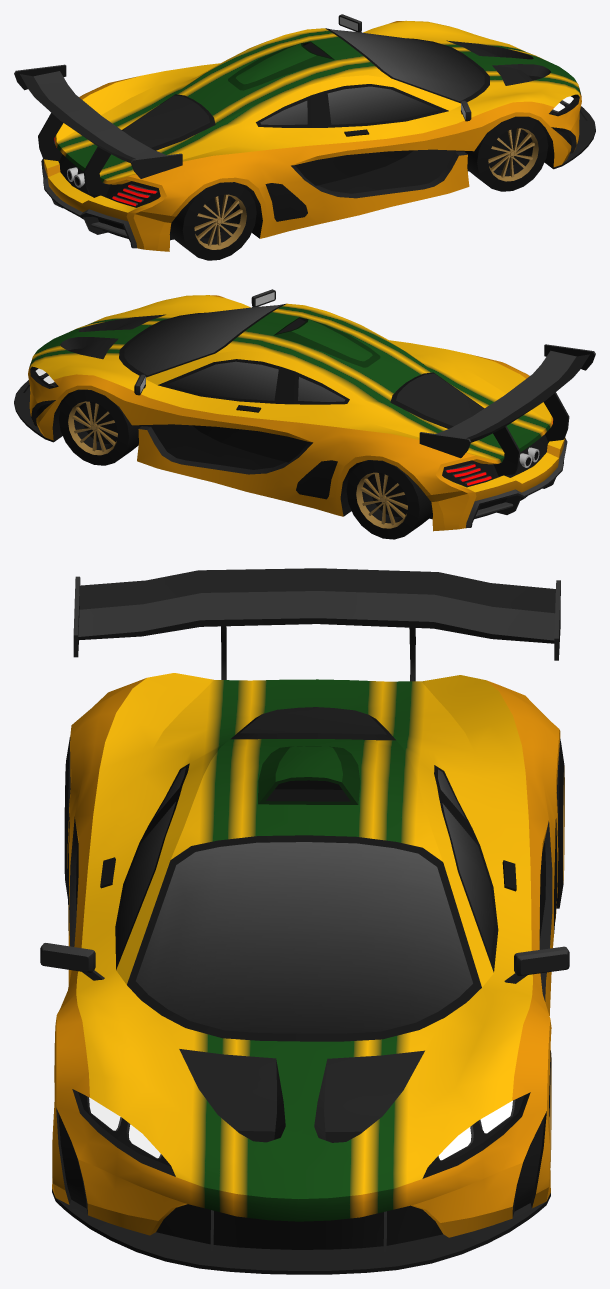
Rendered from Car_086.glb.
3 renders of one model, top to bottom at view 1: azimuth 30°, elevation 25°; view 2: azimuth 150°, elevation 25°; view 3: azimuth 270°, elevation 25°, orthographic. The views are drawn at different scales.
Visible parts, largest first — view 1: Car_086, wheel_3_Car_086_Wheel_2R, wheel_1_Car_086_Wheel_1R; view 2: Car_086, wheel_2_Car_086_Wheel_2L, wheel_0_Car_086_Wheel_1L; view 3: Car_086, wheel_2_Car_086_Wheel_2L.
Boxes of the visible parts, x1,y1,x2,y2 form: Car_086: (14,14,595,251); wheel_3_Car_086_Wheel_2R: (170,182,256,260); wheel_1_Car_086_Wheel_1R: (465,116,548,191); Car_086: (14,289,595,531); wheel_2_Car_086_Wheel_2L: (346,460,432,539); wheel_0_Car_086_Wheel_1L: (59,389,141,465); Car_086: (40,568,569,1274); wheel_2_Car_086_Wheel_2L: (556,740,564,908).
Bounding box in the file's own units: 4.99 × 1.22 × 2.23.
Materials: 2 (2 with a texture image).
